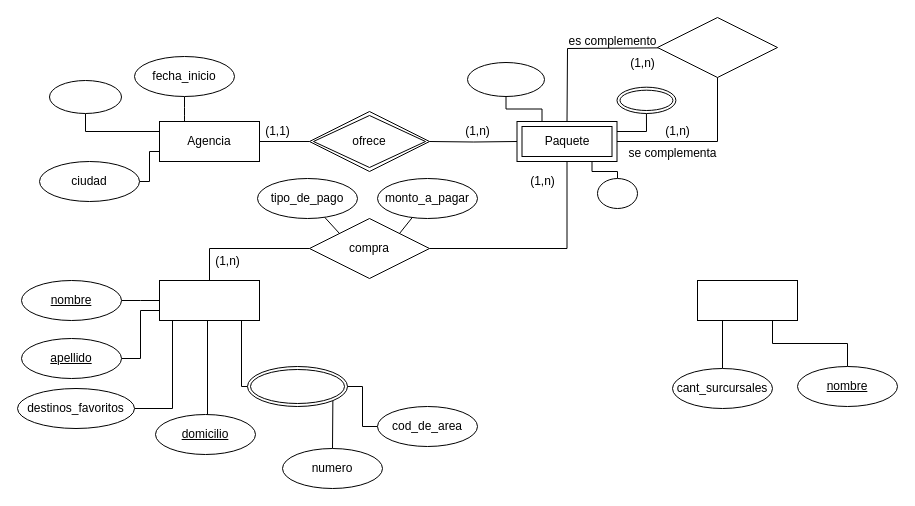
Some shapes in this 915 by 506 pixel diagram are drawn without their labels. The shapes that lost their labels are listed below. From the top down, each one's centre as x and y in pixels, then its label:
[717,47]: complementa
[85,97]: codigo
[505,79]: cod_paquete
[646,100]: destinos
[617,193]: precio
[209,300]: Cliente
[747,300]: Banco
[297,386]: telefonos
